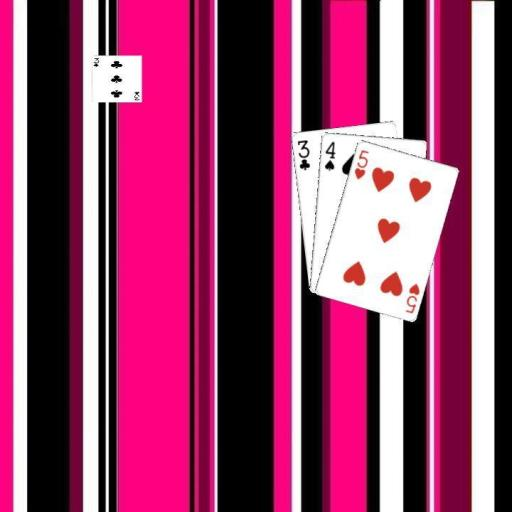card-corner: (294, 136, 312, 172), (402, 280, 421, 314), (352, 146, 370, 180), (321, 138, 336, 172)
